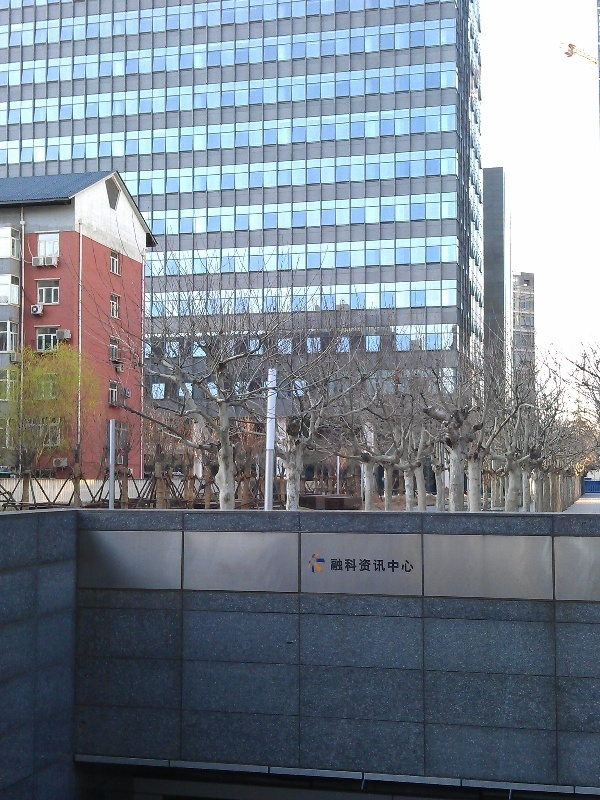text: (337, 557, 352, 574), (353, 557, 368, 574), (369, 557, 384, 574), (385, 557, 400, 574), (401, 557, 415, 574), (330, 557, 336, 574)
